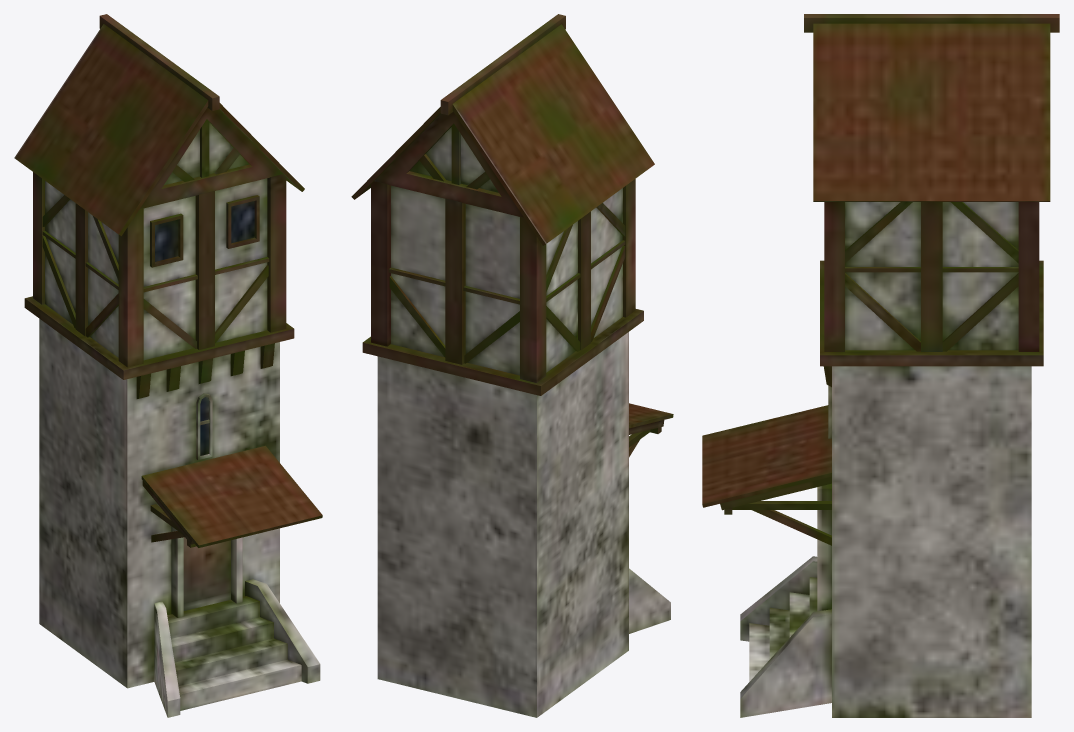
The model's file is medieval_house_1_game.glb.
The picture shows the model from 3 angles, left to right: view 1: azimuth 30°, elevation 25°; view 2: azimuth 150°, elevation 25°; view 3: azimuth 270°, elevation 25°; orthographic projection. The views are drawn at different scales.
Visible parts, largest first — view 1: House1; view 2: House1; view 3: House1.
Boxes of the visible parts, <box> form: House1: <box>14,14,322,717</box>; House1: <box>351,14,673,717</box>; House1: <box>702,14,1059,717</box>.
Size of the model in its own units: 3.05 by 9.1 by 4.47.
1 material, 1 textured.
